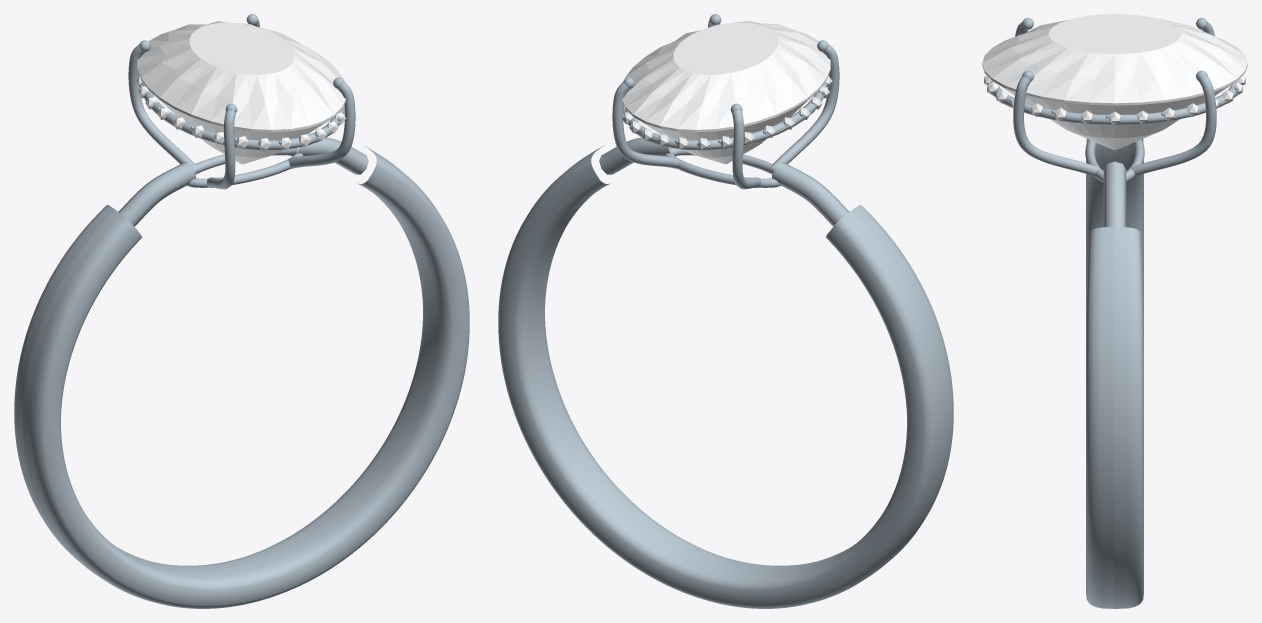
The model's file is lumen-visual-v1-oval.glb.
3 renders of one model, left to right at view 1: azimuth 30°, elevation 25°; view 2: azimuth 150°, elevation 25°; view 3: azimuth 270°, elevation 25°, orthographic.
Visible parts, largest first — view 1: Band, CenterStone, Shoulder--1, Prong-3, Prong-1, BasketBridge, HiddenHaloRail, Shoulder-1, Prong-2; view 2: Band, CenterStone, Shoulder--1, Prong-2, Prong-4, BasketBridge, HiddenHaloRail, Shoulder-1, Prong-3; view 3: Band, CenterStone, Prong-1, Prong-4, HiddenHaloRail, Shoulder-1, BasketBridge.
Part boxes in pixels (<box>): Band: <box>14,146,469,608</box>; CenterStone: <box>137,21,345,164</box>; Shoulder--1: <box>118,162,195,226</box>; Prong-3: <box>128,44,196,167</box>; Prong-1: <box>287,81,355,168</box>; BasketBridge: <box>187,148,303,187</box>; HiddenHaloRail: <box>141,82,343,150</box>; Shoulder-1: <box>291,137,368,174</box>; Prong-2: <box>206,109,235,189</box>; Band: <box>498,146,953,608</box>; CenterStone: <box>622,21,830,164</box>; Shoulder--1: <box>772,162,849,226</box>; Prong-2: <box>771,44,839,167</box>; Prong-4: <box>612,81,680,168</box>; BasketBridge: <box>664,148,780,187</box>; HiddenHaloRail: <box>625,82,827,150</box>; Shoulder-1: <box>599,137,676,174</box>; Prong-3: <box>732,109,761,189</box>; Band: <box>1086,139,1143,608</box>; CenterStone: <box>982,14,1247,149</box>; Prong-1: <box>1013,75,1100,176</box>; Prong-4: <box>1129,75,1216,176</box>; HiddenHaloRail: <box>990,81,1240,124</box>; Shoulder-1: <box>1103,161,1126,227</box>; BasketBridge: <box>1085,139,1144,182</box>.
Size of the model in its own units: 19.55 by 23.36 by 10.2.
